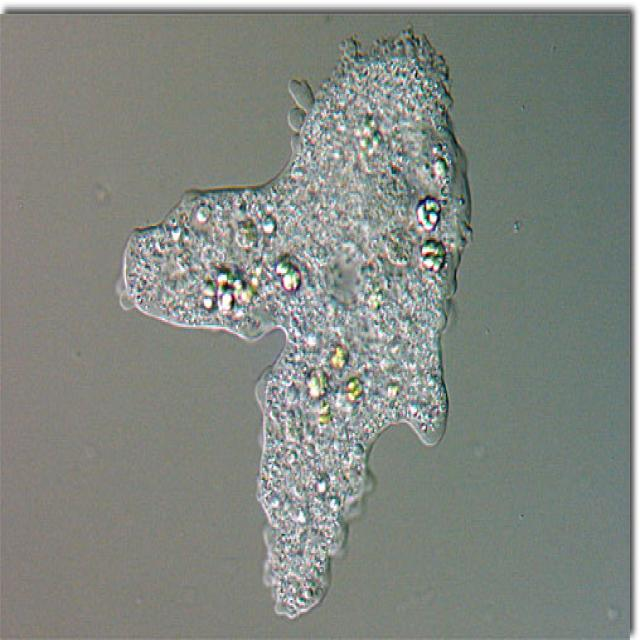Amoeba: (117, 26, 474, 621)
